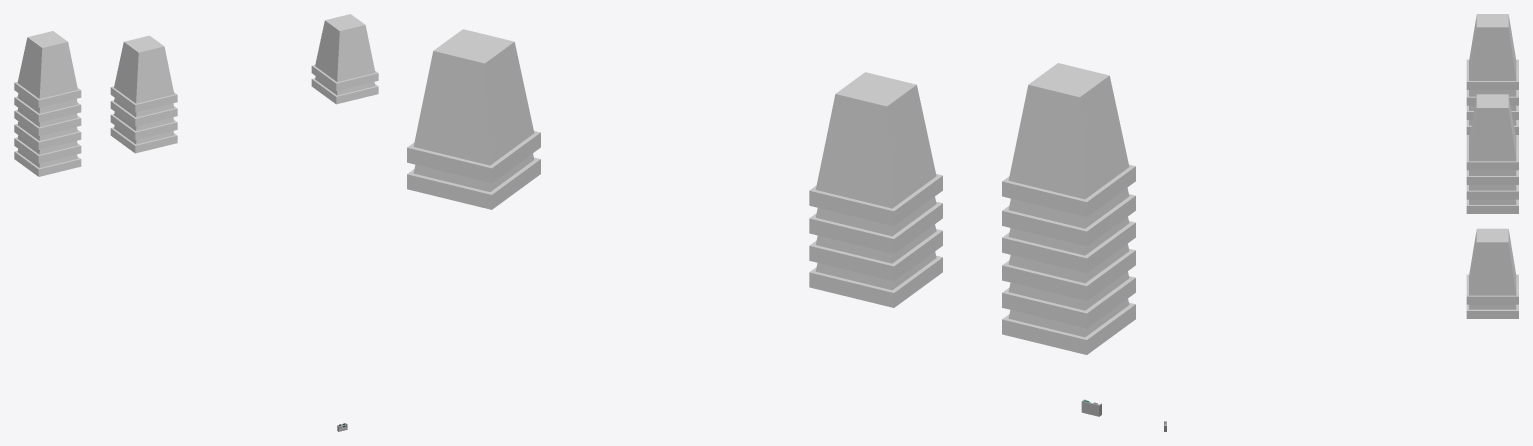
File: LaptopShelf.glb
3 renders of one model, left to right at view 1: azimuth 30°, elevation 25°; view 2: azimuth 150°, elevation 25°; view 3: azimuth 270°, elevation 25°, orthographic. The views are drawn at different scales.
Parts seen in each view (by area): view 1: SI_KitchenCounter_Cups; view 2: SI_KitchenCounter_Cups; view 3: SI_KitchenCounter_Cups.
Boxes of the visible parts, x1,y1,x2,y2 form: SI_KitchenCounter_Cups: (14,14,378,176); SI_KitchenCounter_Cups: (407,29,1135,354); SI_KitchenCounter_Cups: (1466,14,1518,318).
Bounding box in the file's own units: 1.59 × 1.4 × 1.34.
Materials: 2 (2 with a texture image).
